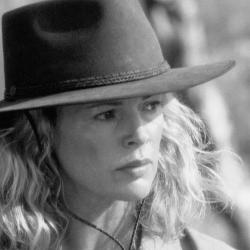face: (1, 51, 231, 243)
